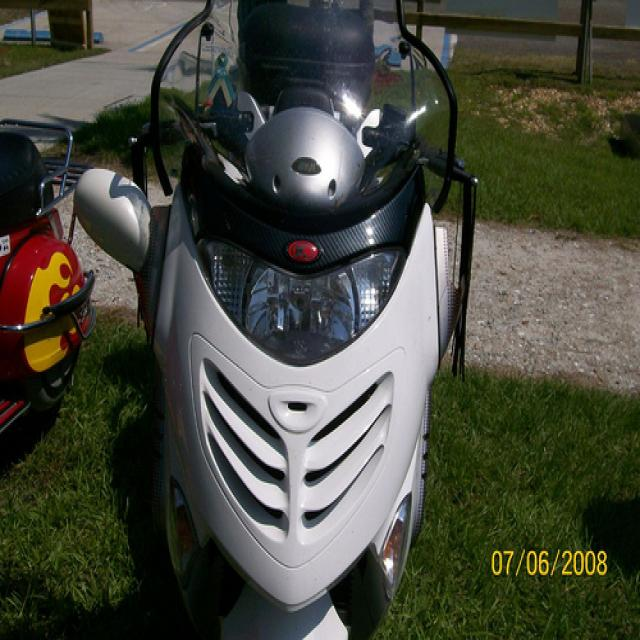motor: (72, 2, 477, 585), (0, 104, 91, 488)
